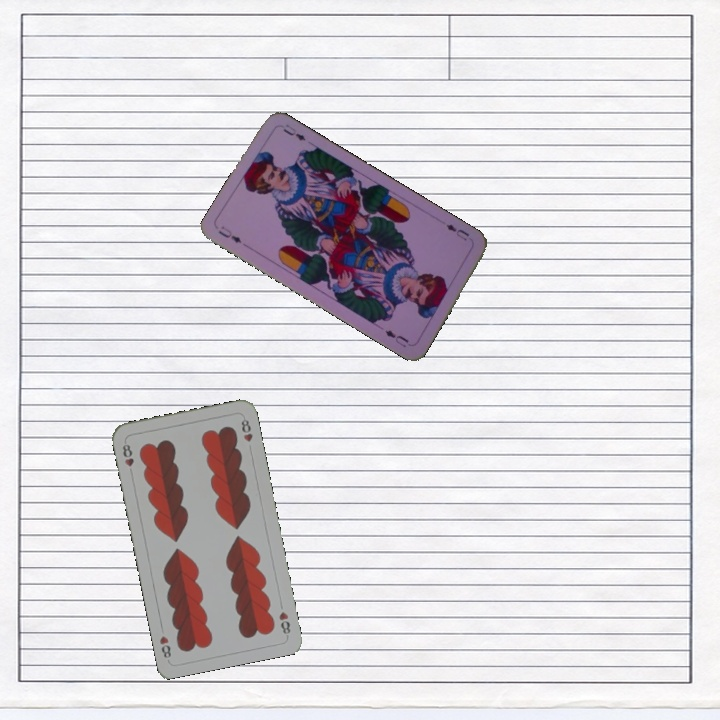EU: (214, 222, 244, 246), (442, 220, 472, 243)
H8: (118, 437, 136, 478), (275, 607, 293, 639)
